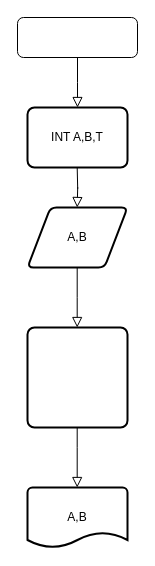
This 155x566 diagram has some shape labels left out. The shapes that lost their labels are listed below. From the top down, each one's centre as x and y in pixels, then its label:
At (x=77, y=37): "INICIO".
At (x=77, y=377): "T=A A=B T=B".
